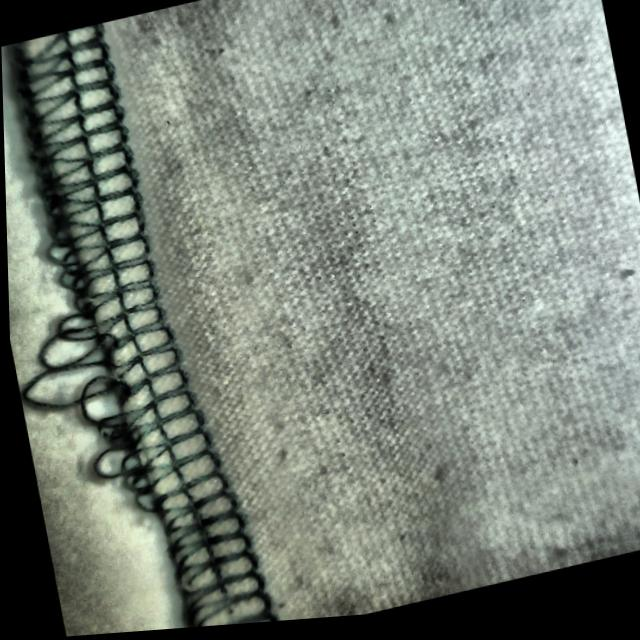Stitch: (5, 204, 226, 540)
